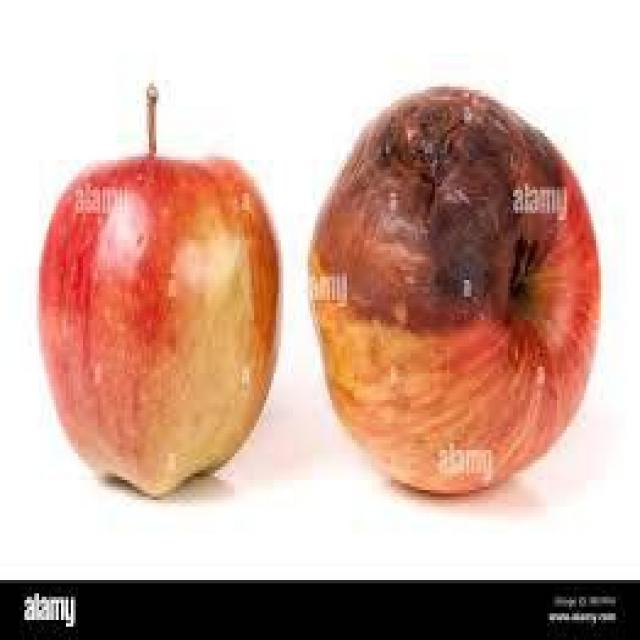fresh_apple: (39, 152, 283, 502)
rotten_apple: (307, 83, 602, 497)
